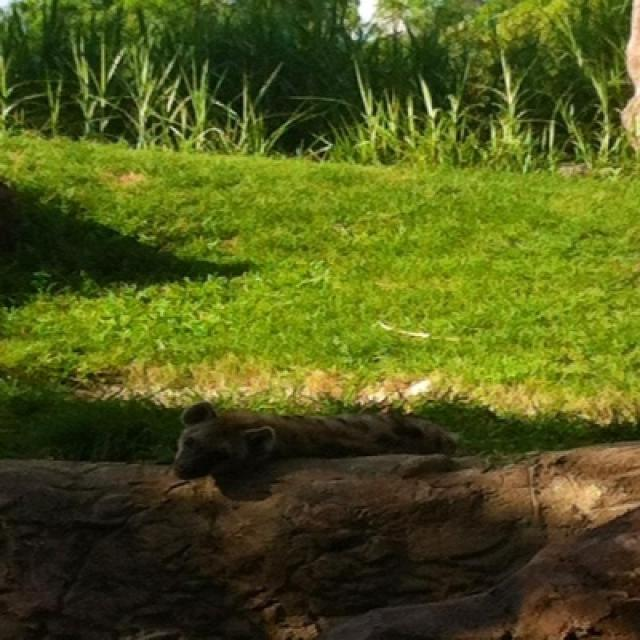hyena: (173, 403, 456, 483)
